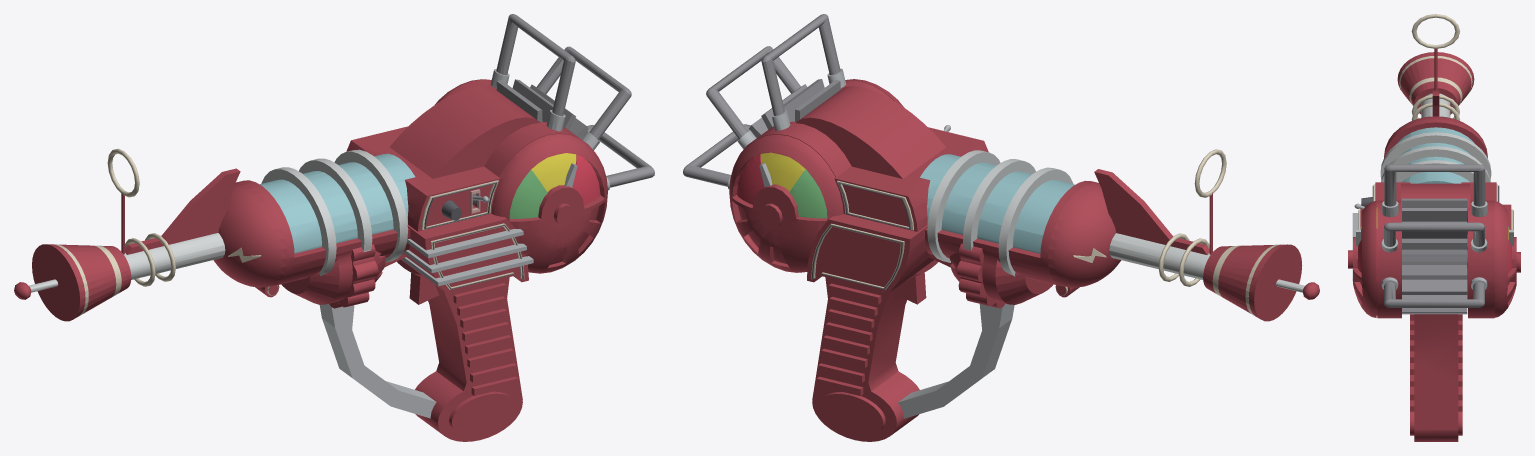
3 views of the same model, side by side, from view 1: azimuth 30°, elevation 25°; view 2: azimuth 150°, elevation 25°; view 3: azimuth 270°, elevation 25° (orthographic). The views are drawn at different scales.
Visible parts, largest first — view 1: Object_2; view 2: Object_2; view 3: Object_2.
Part boxes in pixels (left/top/right/bottom): Object_2: left=14, top=14, right=654, bottom=441; Object_2: left=683, top=14, right=1319, bottom=441; Object_2: left=1348, top=14, right=1520, bottom=441.
Size of the model in its own units: 107 by 63.38 by 33.
